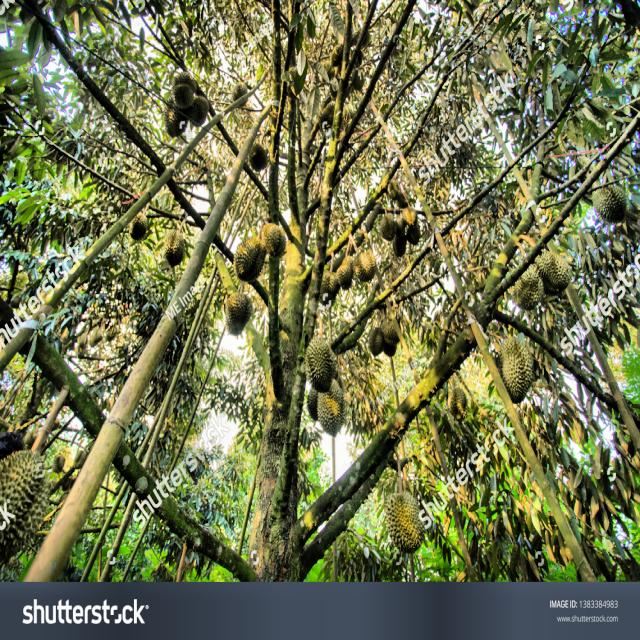arvore: (232, 68, 350, 583)
